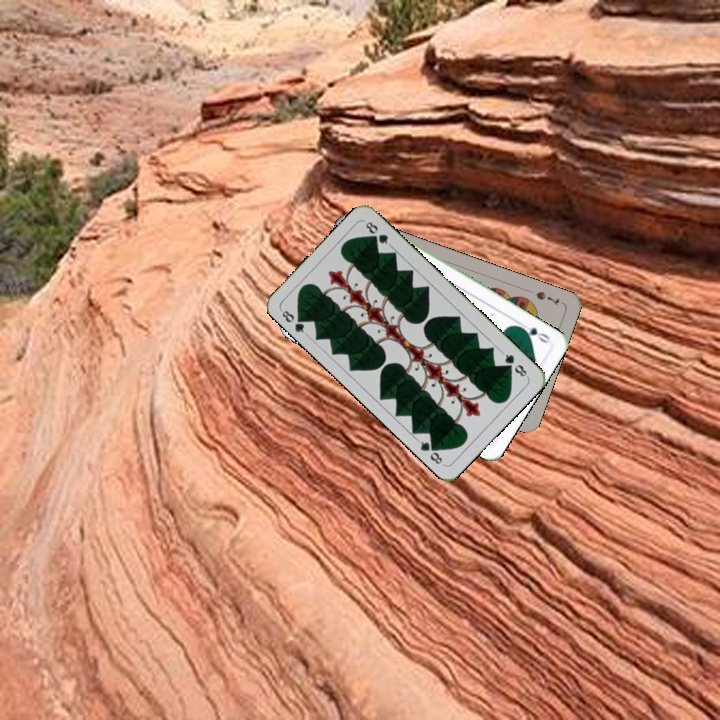G8: (498, 348, 530, 380), (277, 306, 309, 338)
GO: (515, 319, 553, 346)
S7: (532, 287, 562, 308)
